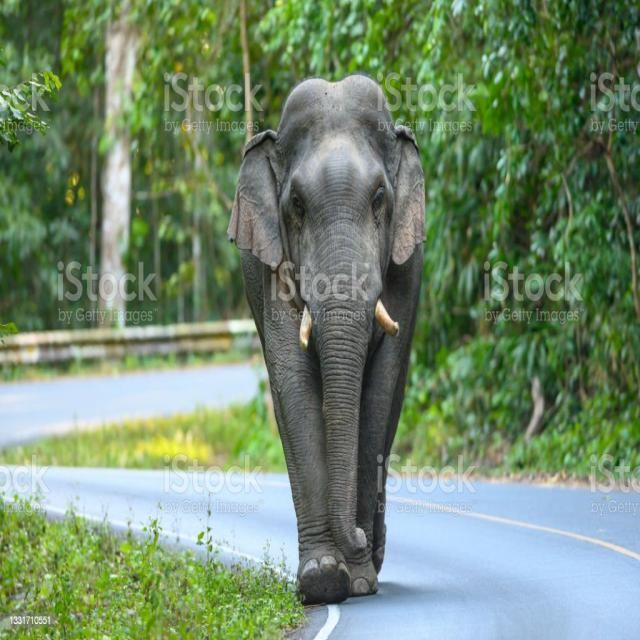Elephant: (215, 79, 430, 614)
